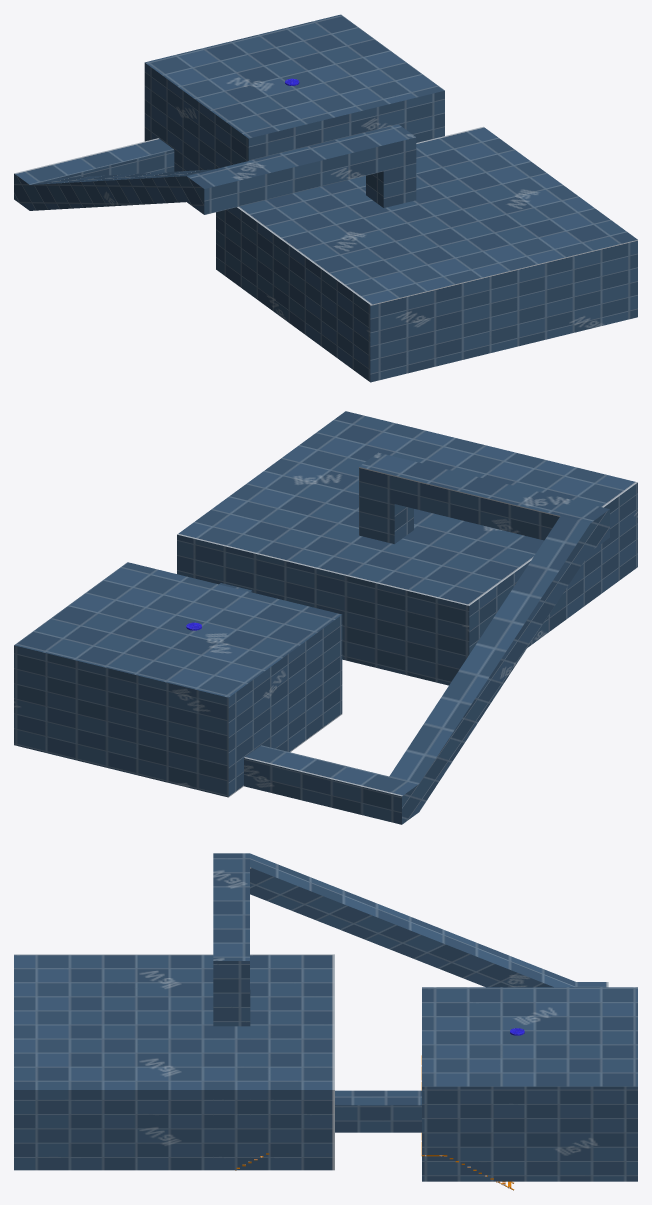
File: test map game.glb
The picture shows the model from 3 angles, top to bottom: view 1: azimuth 30°, elevation 25°; view 2: azimuth 150°, elevation 25°; view 3: azimuth 270°, elevation 25°; orthographic projection. The views are drawn at different scales.
Parts seen in each view (by area): view 1: Cube; view 2: Cube; view 3: Cube.
Boxes of the visible parts, box(x1,y1,x2,y2) form: Cube: box(14, 14, 637, 382); Cube: box(14, 411, 637, 824); Cube: box(14, 853, 637, 1181).
Bounding box in the file's own units: 54.92 × 24.51 × 83.72.
Materials: 5 (5 with a texture image).
